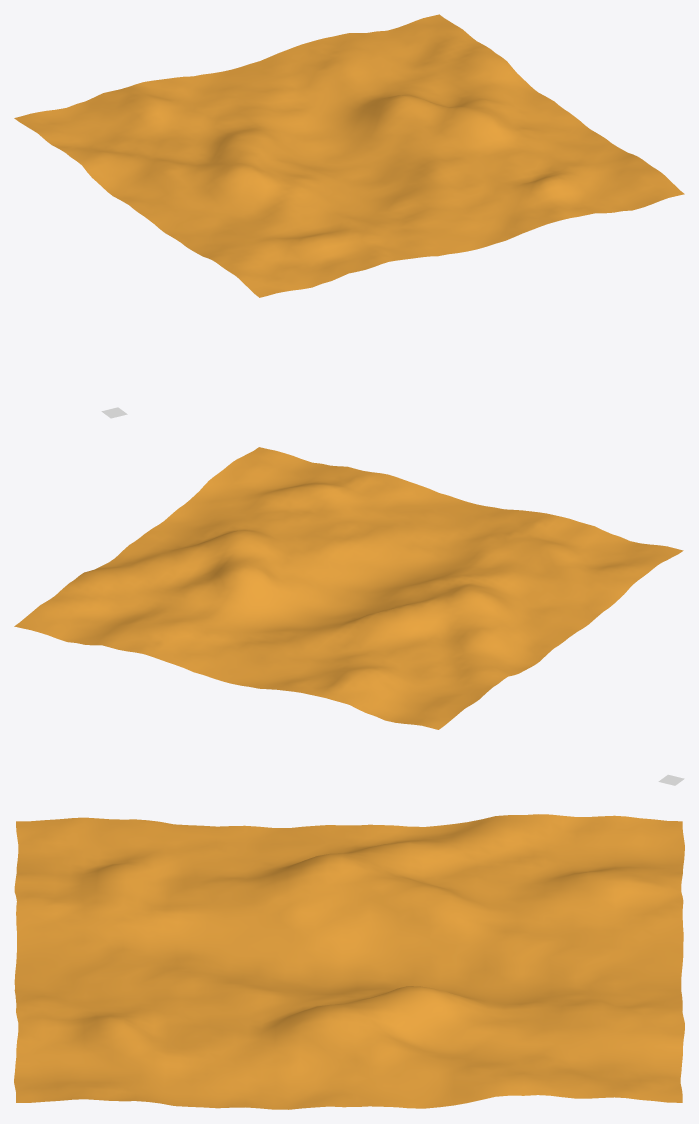
Rendered from landscape6.dae.
3 renders of one model, top to bottom at view 1: azimuth 30°, elevation 25°; view 2: azimuth 150°, elevation 25°; view 3: azimuth 270°, elevation 25°, orthographic. The views are drawn at different scales.
Parts seen in each view (by area): view 1: Plane; view 2: Plane; view 3: Plane.
Part boxes in pixels (box(x1,y1,x2,y2)): Plane: box(14, 14, 684, 297); Plane: box(14, 447, 683, 729); Plane: box(14, 814, 684, 1109).
Bounding box in the file's own units: 59 × 50.33 × 19.77.
